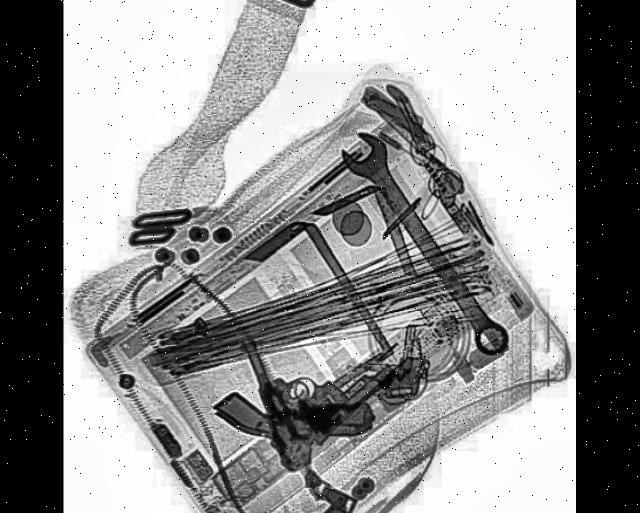Gun: (209, 290, 402, 501)
Wrench: (336, 119, 514, 376)
